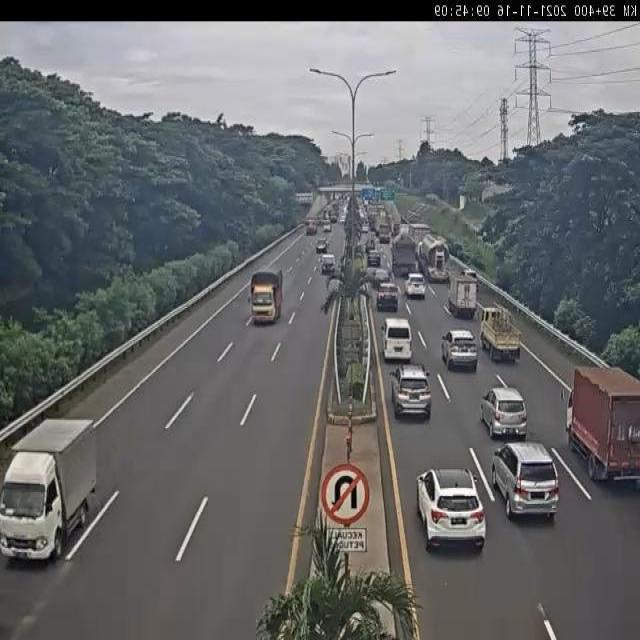Car: (415, 466, 486, 551), (490, 441, 560, 520), (480, 385, 528, 440), (389, 362, 433, 419), (441, 329, 478, 372), (376, 281, 400, 312), (404, 273, 426, 300), (372, 266, 391, 286), (366, 249, 381, 267), (316, 240, 328, 253), (362, 223, 369, 234)
Truck: (0, 417, 94, 561), (566, 366, 640, 486), (480, 305, 522, 363), (247, 266, 283, 324), (418, 234, 450, 284), (447, 270, 478, 319), (391, 229, 418, 278), (407, 223, 432, 248), (321, 252, 336, 275), (304, 216, 318, 236), (378, 222, 391, 243), (328, 209, 338, 224), (391, 222, 400, 238)
Van: (381, 317, 413, 362)
